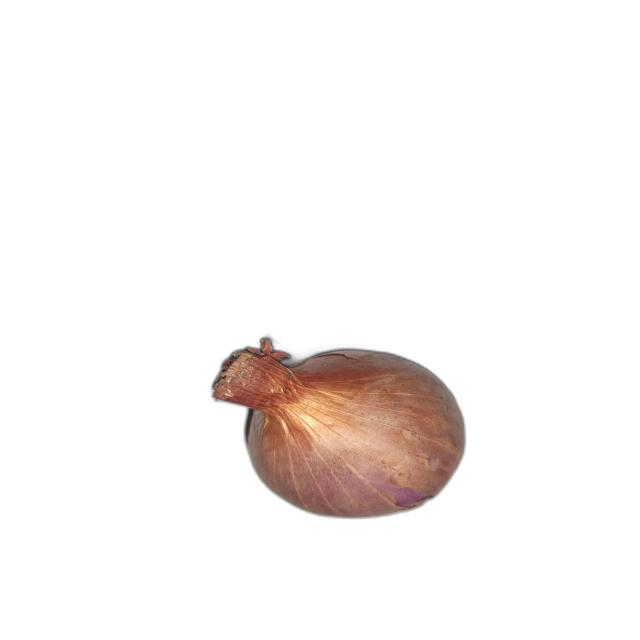onion: (212, 338, 466, 518)
